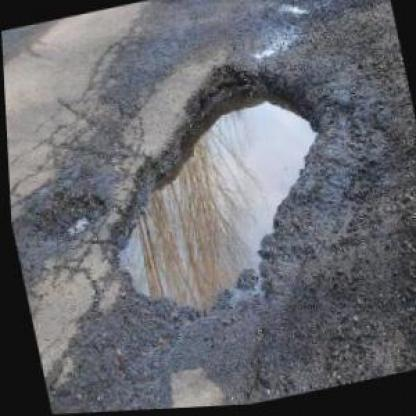pothole: (72, 44, 352, 336), (17, 176, 108, 248)
